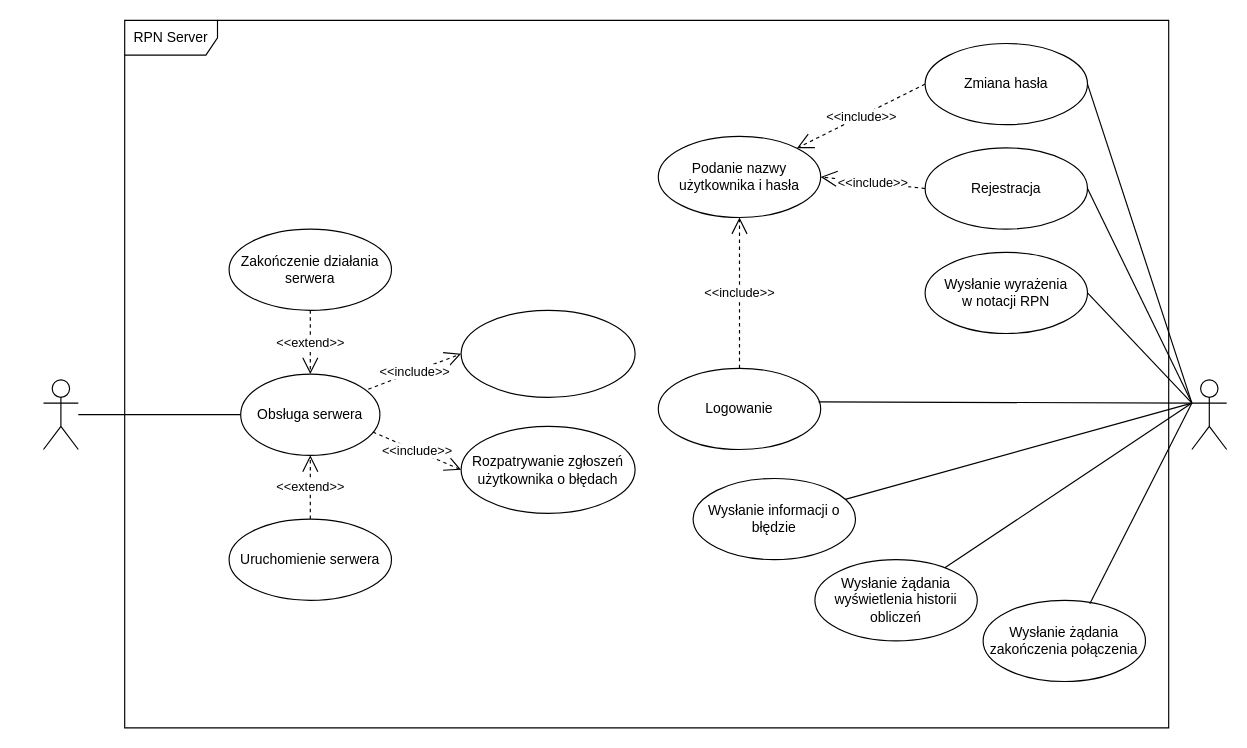
Image size: 1247x748. Some labels were removed from this diagram. Here are the shapes that lost their labels. From the top down, the box of each, then its label:
(460, 309, 635, 397): Akceptowanie użytkownika jako administratora
(42, 379, 78, 449): Administrator
(1191, 379, 1227, 449): Klient
